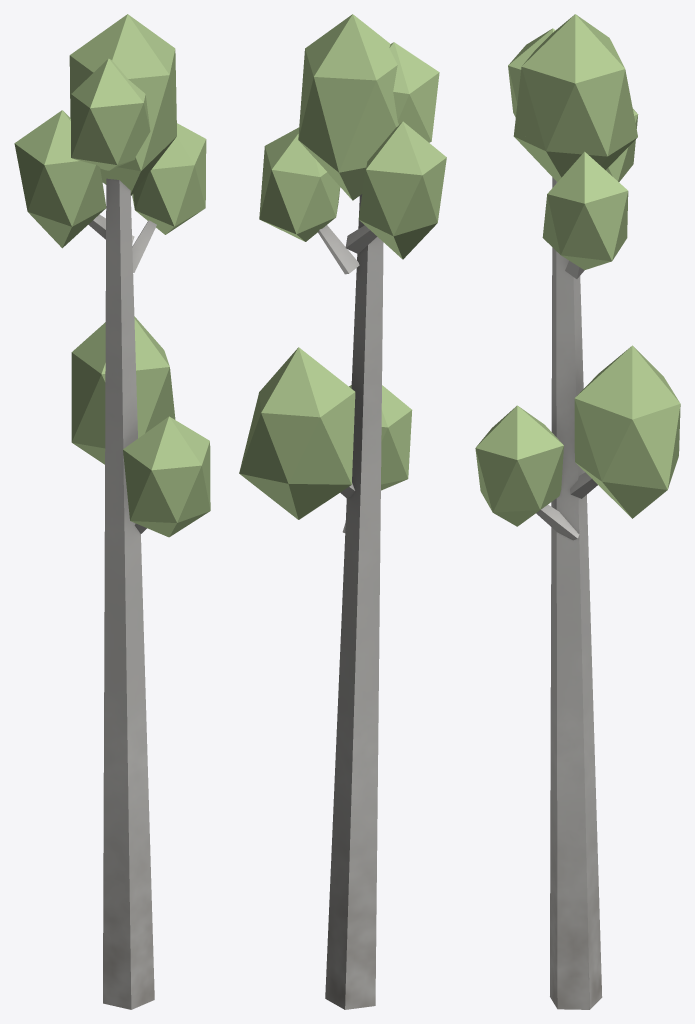
File: arv_betula_5.glb
3 views of the same model, side by side, from view 1: azimuth 30°, elevation 25°; view 2: azimuth 150°, elevation 25°; view 3: azimuth 270°, elevation 25° (orthographic).
Visible parts, largest first — view 1: arv_betula_5; view 2: arv_betula_5; view 3: arv_betula_5.
Part boxes in pixels (box(x1,y1,x2,y2)): arv_betula_5: box(14, 14, 210, 1009); arv_betula_5: box(239, 14, 446, 1009); arv_betula_5: box(475, 14, 680, 1009).
Bounding box in the file's own units: 0.4789 × 2.56 × 0.4829.
2 materials, 1 textured.
